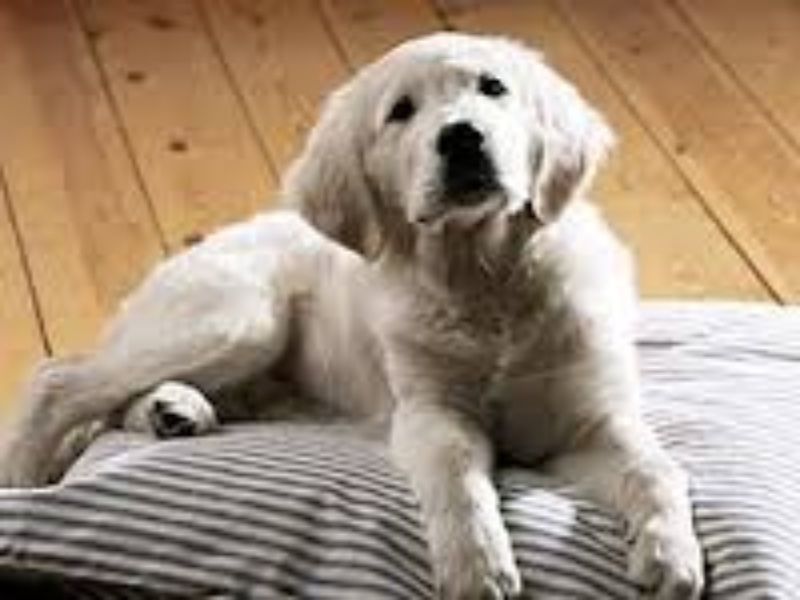dog: (21, 27, 715, 600)
